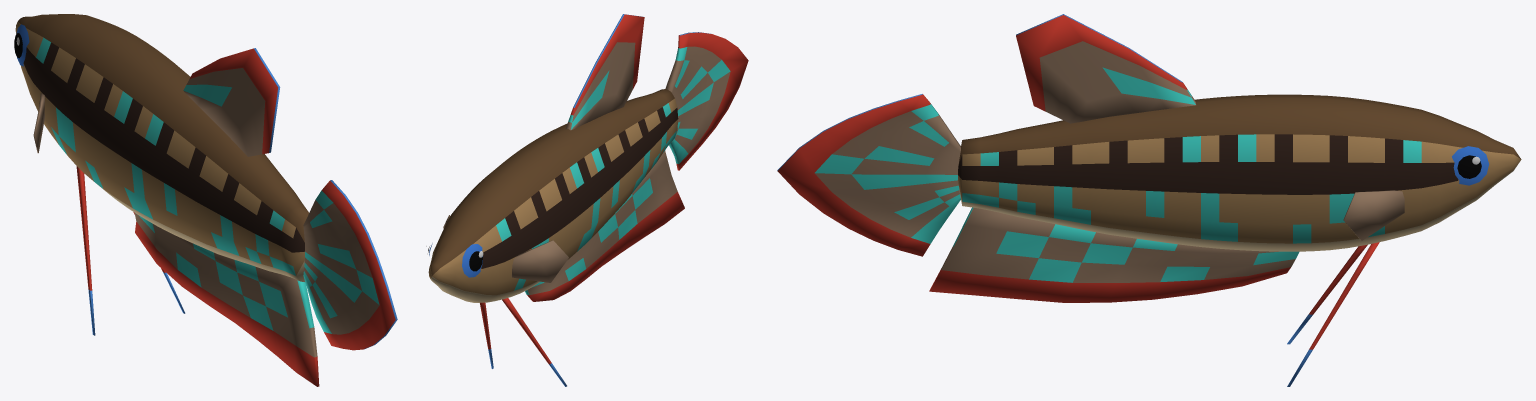
Rendered from sparkling_gourami.glb.
3 views of the same model, side by side, from view 1: azimuth 30°, elevation 25°; view 2: azimuth 150°, elevation 25°; view 3: azimuth 270°, elevation 25° (orthographic). The views are drawn at different scales.
Parts seen in each view (by area): view 1: sparkling_gourami; view 2: sparkling_gourami; view 3: sparkling_gourami.
Boxes of the visible parts, x1=… form: sparkling_gourami: x1=14, y1=14, x2=397, y2=386; sparkling_gourami: x1=426, y1=14, x2=748, y2=386; sparkling_gourami: x1=777, y1=14, x2=1521, y2=386.
Bounding box in the file's own units: 0.5816 × 1.3 × 2.5.
